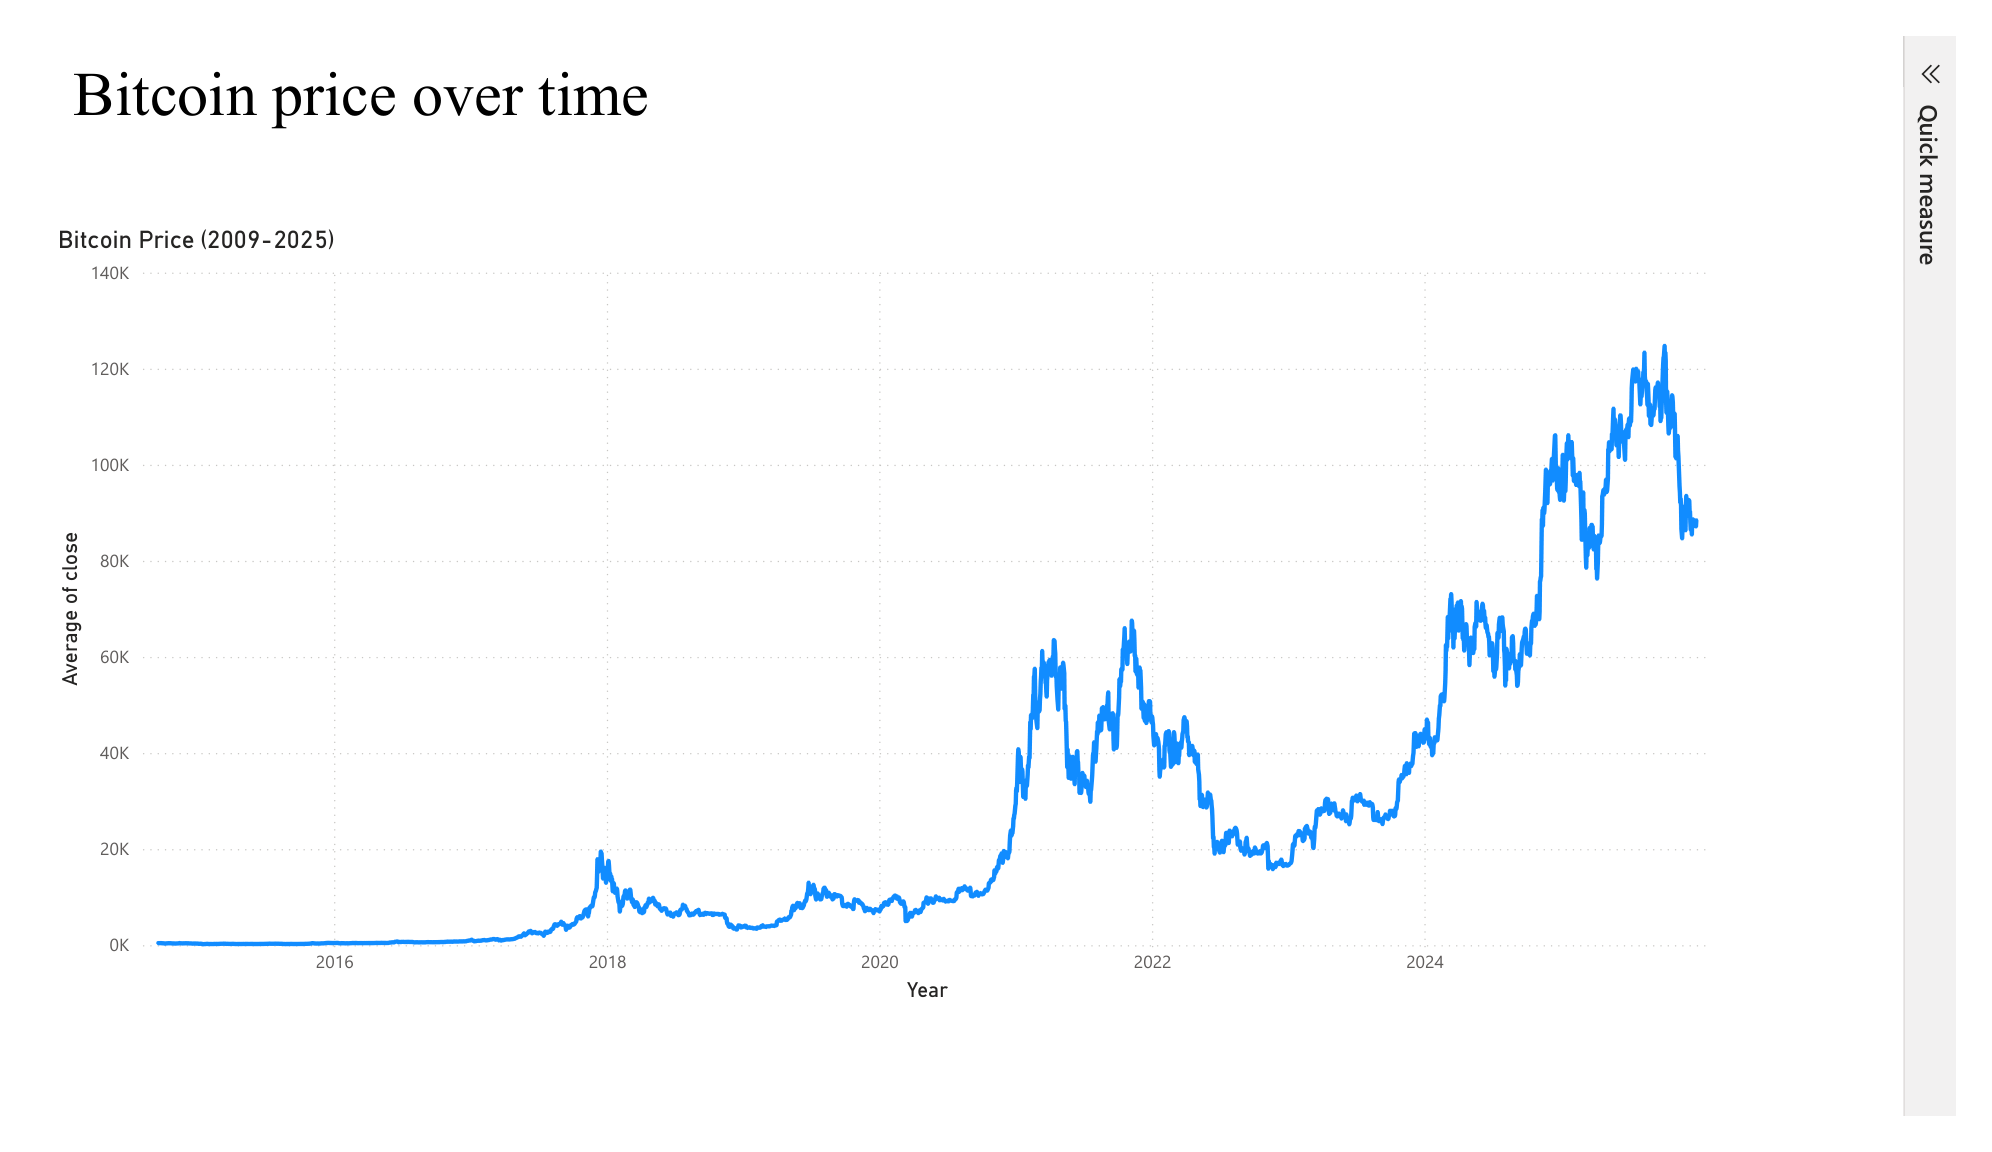

Layout of this report page (visuals, bound fields, positions):
{"tool":"powerbi","page":{"name":"Bitcoin","canvas":[1280,720],"ordinal":0},"visuals":[{"type":"textbox","box":[10,0,545.7,100],"z":0},{"type":"lineChart","title":"Bitcoin Price (2009-2025)","fields":{"Y":["Avg(Market_Prices.close)"],"Category":["Market_Prices.date_only.Variation.Date Hierarchy.Year","Market_Prices.date_only.Variation.Date Hierarchy.Quarter","Market_Prices.date_only.Variation.Date Hierarchy.Month","Market_Prices.date_only.Variation.Date Hierarchy.Day"]},"box":[10,118.6,1145.7,538.6],"z":1000}]}

Visuals, with their boxes on the page's 1280x720 design canvas (x1, y1, x2, y2). These are canvas units, not pixel positions in the 1992x1152 screenshot, which may show the page scaled, cropped or inside an application window:
textbox: [left=10, top=0, right=556, bottom=100]
"Bitcoin Price (2009-2025)" lineChart: [left=10, top=119, right=1156, bottom=657]
